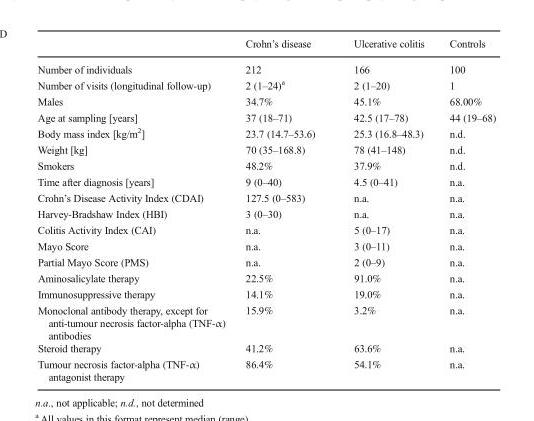table: (36, 37, 495, 382)
table column: (36, 37, 234, 382), (333, 37, 436, 382), (234, 37, 333, 382), (436, 37, 495, 382)
table column header: (36, 37, 495, 55)
table row: (36, 301, 495, 341), (36, 355, 495, 382), (36, 55, 495, 76), (36, 37, 495, 55), (36, 92, 495, 109), (36, 124, 495, 141), (36, 76, 495, 92), (36, 141, 495, 157), (36, 157, 495, 173), (36, 173, 495, 189), (36, 189, 495, 205), (36, 205, 495, 221), (36, 221, 495, 237), (36, 237, 495, 253), (36, 253, 495, 269), (36, 269, 495, 285), (36, 285, 495, 301), (36, 109, 495, 124), (36, 341, 495, 355)
